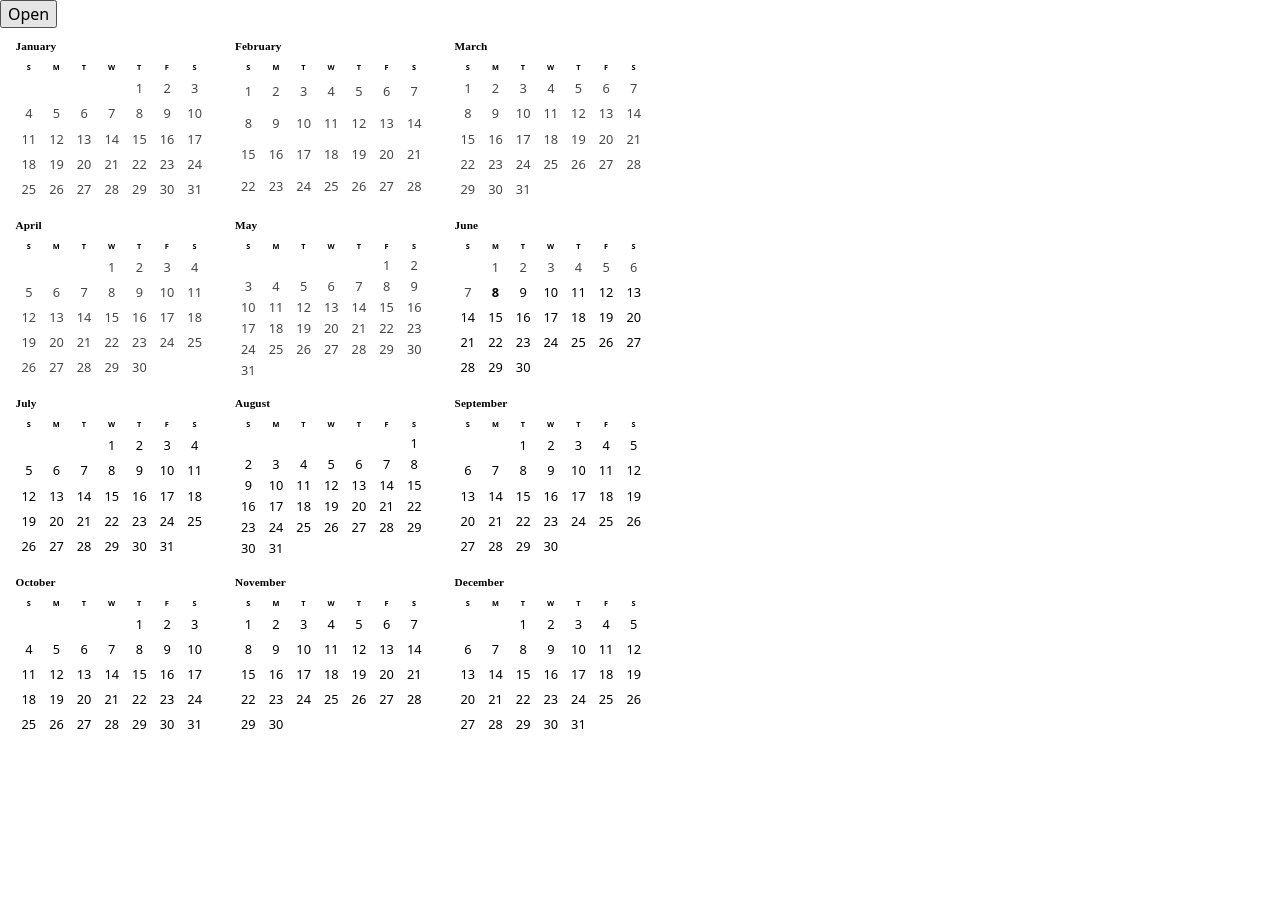
minimal calendar view › opens calendar settings and applies display toggles
Click the button "Open" at coordinates (29, 14), box [0,0,57,28]
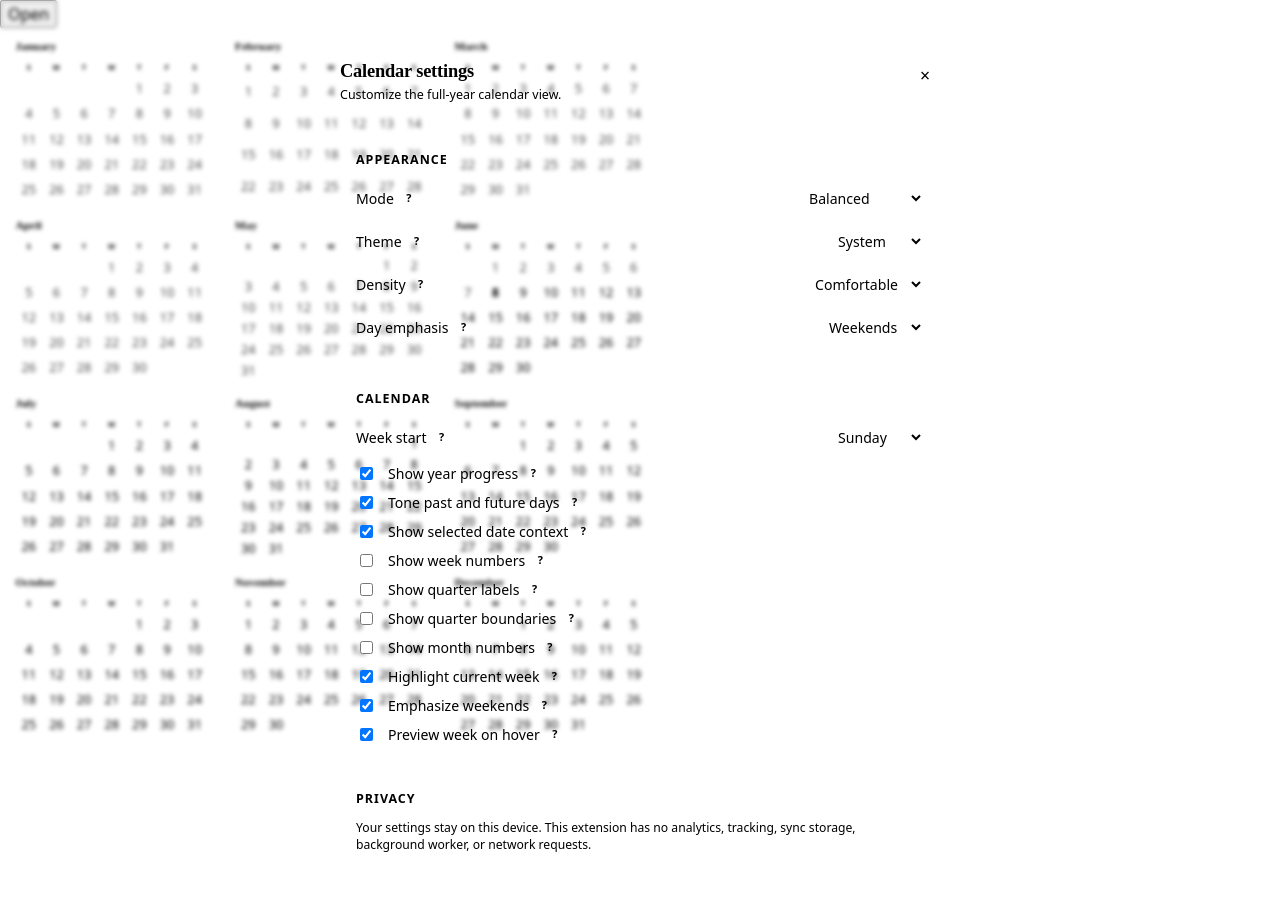
Expected: the dialog shows "Calendar settings", [340,61,474,81]
Select "Wall calendar" in the dropdown named "displayMode" at coordinates (860, 198), box [795,182,924,215]
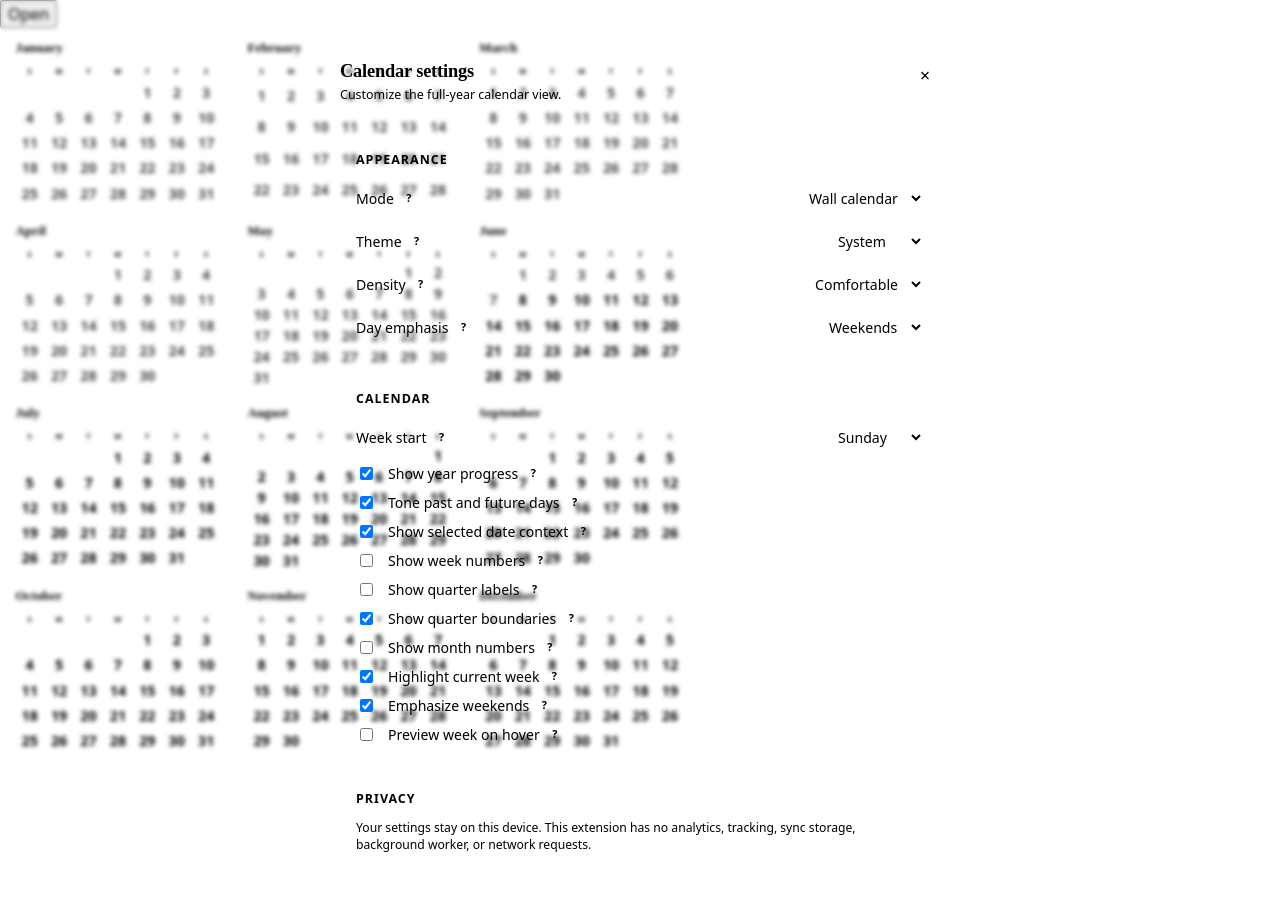
Click the checkbox named "showWeekNumbers" at coordinates (366, 560), box [360,554,373,567]
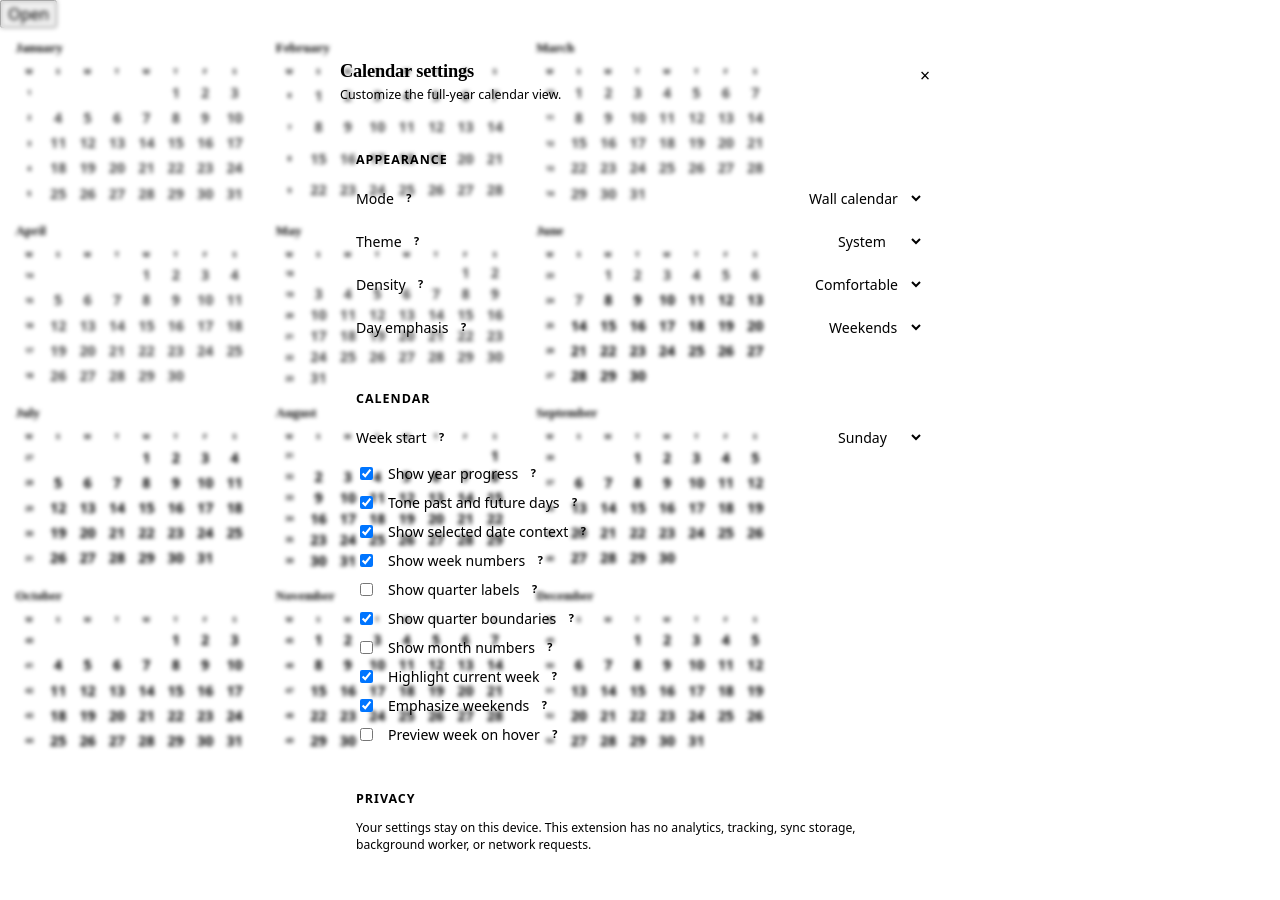
Expected: the text named "ISO week 1" is shown, [27,87,31,97]
Click the checkbox named "showQuarterLabels" at coordinates (366, 590), box [360,583,373,596]
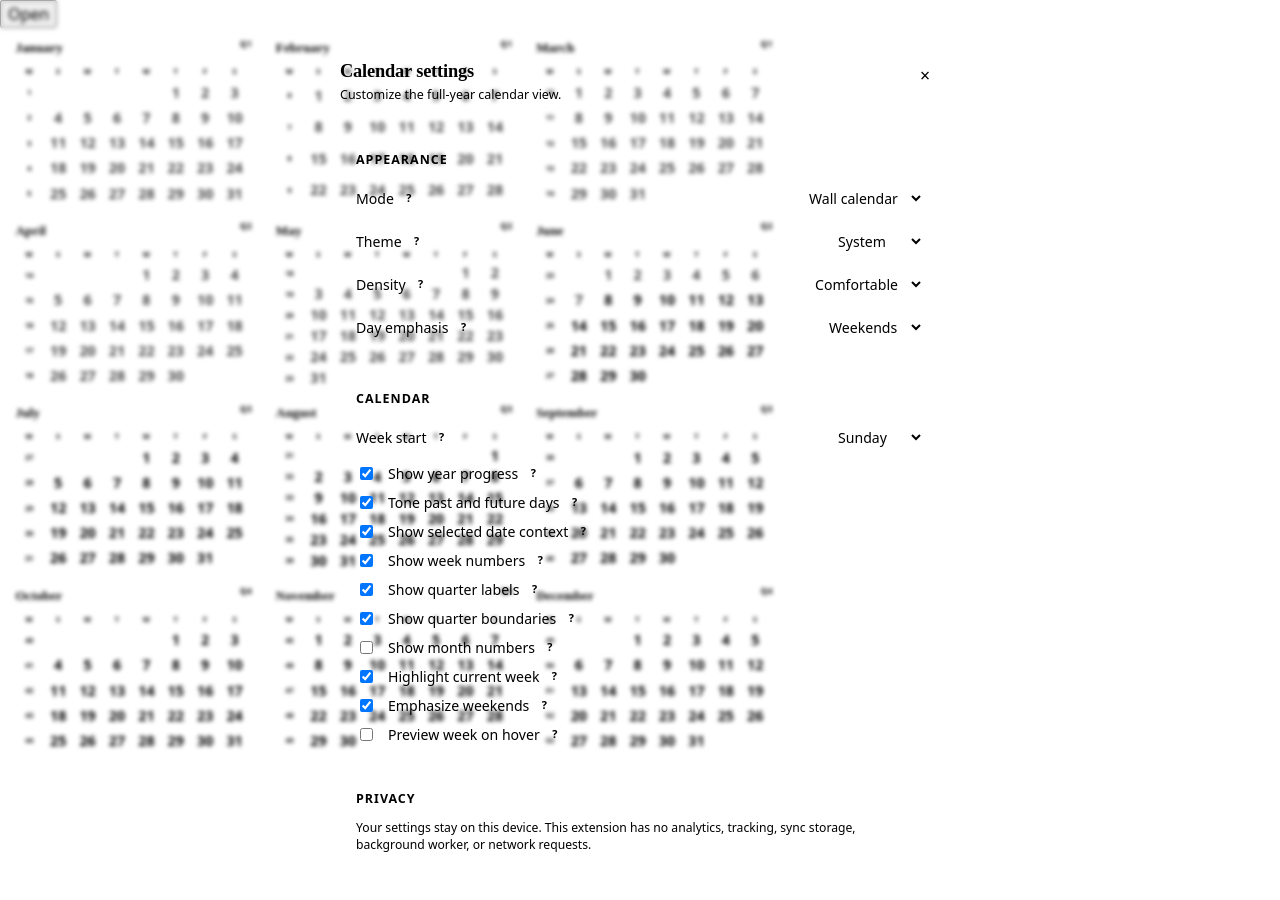
Expected: the text "Q1" is shown, [240,38,252,49]
